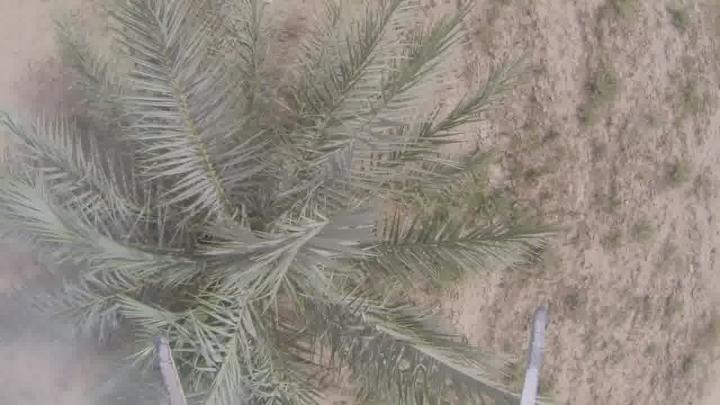Date-Palm-Crown: (90, 102, 386, 404)
